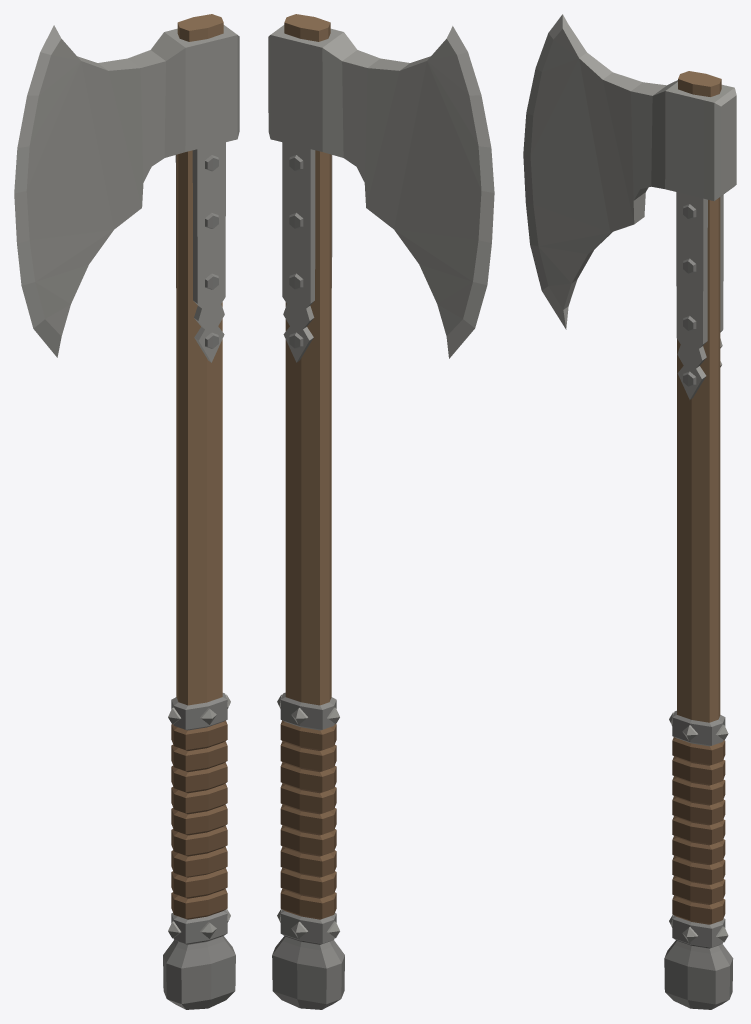
File: SM_pwe_medieval_axe_06.fbx
The picture shows the model from 3 angles, left to right: view 1: azimuth 30°, elevation 25°; view 2: azimuth 150°, elevation 25°; view 3: azimuth 330°, elevation 25°; orthographic projection. The views are drawn at different scales.
Visible parts, largest first — view 1: SM_pwe_medieval_axe_06; view 2: SM_pwe_medieval_axe_06; view 3: SM_pwe_medieval_axe_06.
Part boxes in pixels (x1,y1,x2,y2): SM_pwe_medieval_axe_06: (14,14,239,1009); SM_pwe_medieval_axe_06: (268,14,494,1009); SM_pwe_medieval_axe_06: (523,14,736,1009).
Size of the model in its own units: 24.84 by 110 by 4.99.
